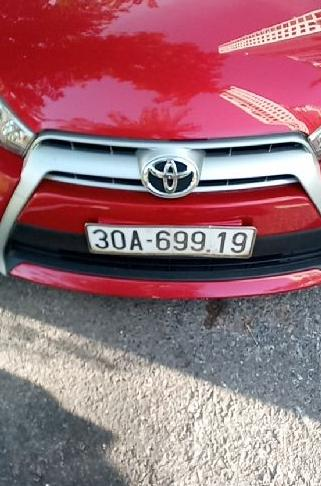Plate-iWeP: (84, 223, 256, 260)
